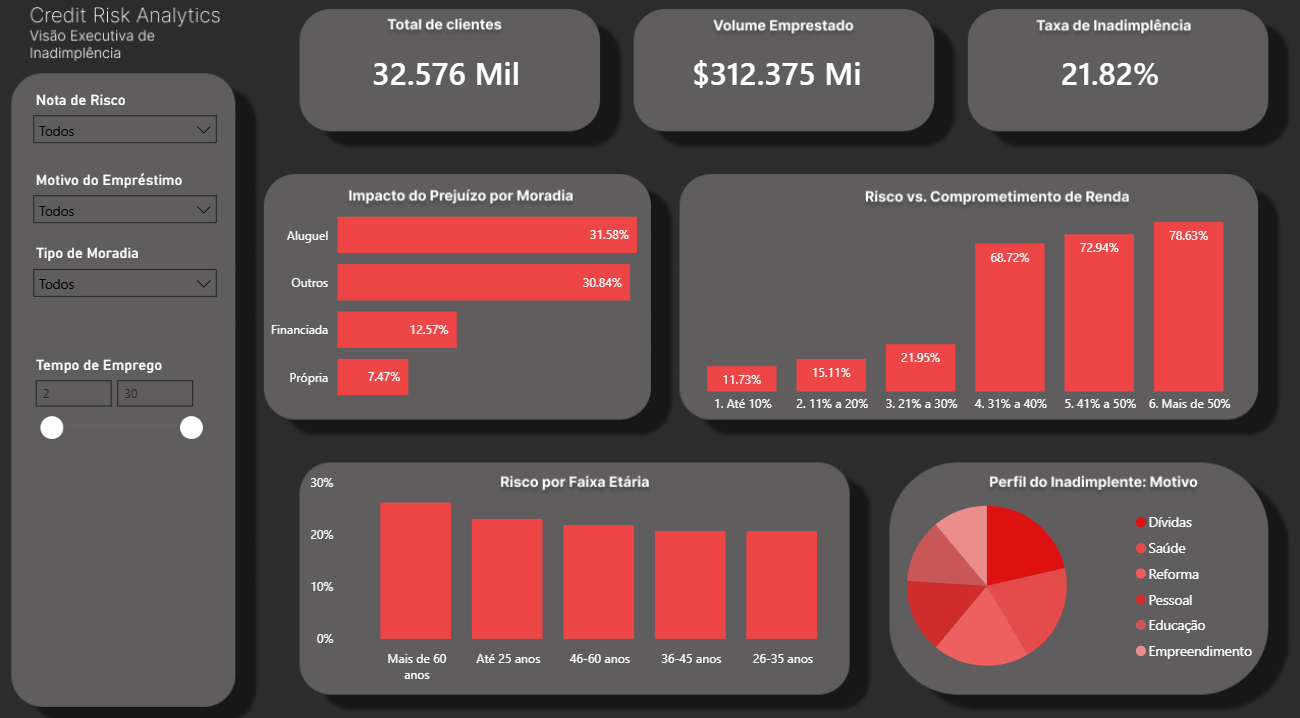

The page's visual inventory and layout, read from the dashboard file:
{"tool":"powerbi","page":{"name":"Página 1","canvas":[1280,720],"ordinal":0},"visuals":[{"type":"cardVisual","fields":{"Data":["dados_tratados.Taxa de Inadimplencia"]},"box":[1013.5,38,163.2,72.4],"z":0},{"type":"cardVisual","fields":{"Data":["Sum(dados_tratados.valor_emprestimo)"]},"box":[651.5,38,252.8,72.4],"z":1000},{"type":"cardVisual","fields":{"Data":["dados_tratados.Total de clientes"]},"box":[337.4,38,224.5,72.4],"z":2000},{"type":"pieChart","fields":{"Y":["dados_tratados.Taxa de Inadimplencia"],"Category":["dados_tratados.motivo_emprestimo"]},"box":[819.6,476.1,424.5,206.1],"z":3000},{"type":"clusteredColumnChart","fields":{"Category":["dados_tratados.faixa_etaria"],"Y":["dados_tratados.Taxa de Inadimplencia"]},"box":[300.6,463.8,546,218.4],"z":4000},{"type":"clusteredBarChart","fields":{"Category":["dados_tratados.situacao_moradia"],"Y":["dados_tratados.Taxa de Inadimplencia"]},"box":[256.4,185.3,419.6,231.9],"z":5000},{"type":"columnChart","fields":{"Category":["dados_tratados.Faixa Comprometimento Renda"],"Y":["dados_tratados.Taxa de Inadimplencia"]},"box":[655.2,186.5,589,231.9],"z":6000},{"type":"slicer","fields":{"Values":["dados_tratados.motivo_emprestimo"]},"box":[23.3,166.9,200,84.7],"z":7000},{"type":"slicer","fields":{"Values":["dados_tratados.nota_risco"]},"box":[23.3,88.3,200,78.5],"z":7001},{"type":"slicer","fields":{"Values":["dados_tratados.situacao_moradia"]},"box":[23.3,239.3,200,84.7],"z":7002},{"type":"slicer","fields":{"Values":["dados_tratados.anos_historico_credito"]},"box":[23.3,348.5,186.5,170.6],"z":7003}]}

Visuals, with their boxes in screenshot pixels (x1, y1, x2, y2), scaled from the page's 1280x720 canvas onto the 1300x718 screenshot:
cardVisual - dados_tratados.Taxa de Inadimplencia: bbox=[1029, 38, 1195, 110]
cardVisual - Sum(dados_tratados.valor_emprestimo): bbox=[662, 38, 918, 110]
cardVisual - dados_tratados.Total de clientes: bbox=[343, 38, 571, 110]
pieChart - dados_tratados.Taxa de Inadimplencia x dados_tratados.motivo_emprestimo: bbox=[832, 475, 1264, 680]
clusteredColumnChart - dados_tratados.faixa_etaria x dados_tratados.Taxa de Inadimplencia: bbox=[305, 463, 860, 680]
clusteredBarChart - dados_tratados.situacao_moradia x dados_tratados.Taxa de Inadimplencia: bbox=[260, 185, 687, 416]
columnChart - dados_tratados.Faixa Comprometimento Renda x dados_tratados.Taxa de Inadimplencia: bbox=[665, 186, 1264, 417]
slicer - dados_tratados.motivo_emprestimo: bbox=[24, 166, 227, 251]
slicer - dados_tratados.nota_risco: bbox=[24, 88, 227, 166]
slicer - dados_tratados.situacao_moradia: bbox=[24, 239, 227, 323]
slicer - dados_tratados.anos_historico_credito: bbox=[24, 348, 213, 518]
